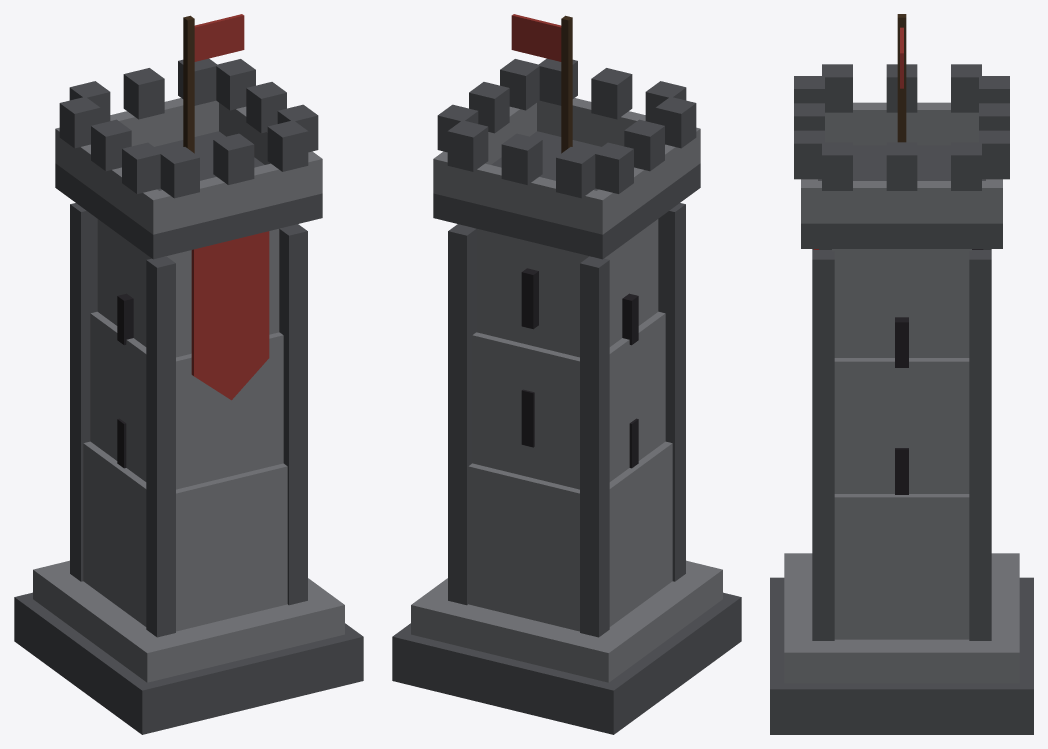
Rendered from watch_tower_lowpoly.glb.
The picture shows the model from 3 angles, left to right: view 1: azimuth 30°, elevation 25°; view 2: azimuth 150°, elevation 25°; view 3: azimuth 270°, elevation 25°; orthographic projection. The views are drawn at different scales.
Parts seen in each view (by area): view 1: lp_watch_tower; view 2: lp_watch_tower; view 3: lp_watch_tower.
Boxes of the visible parts, left/top/right/bottom form: lp_watch_tower: left=14, top=14, right=363, bottom=734; lp_watch_tower: left=392, top=14, right=741, bottom=734; lp_watch_tower: left=770, top=14, right=1033, bottom=734.
Size of the model in its own units: 0.94 by 2.61 by 0.94.
